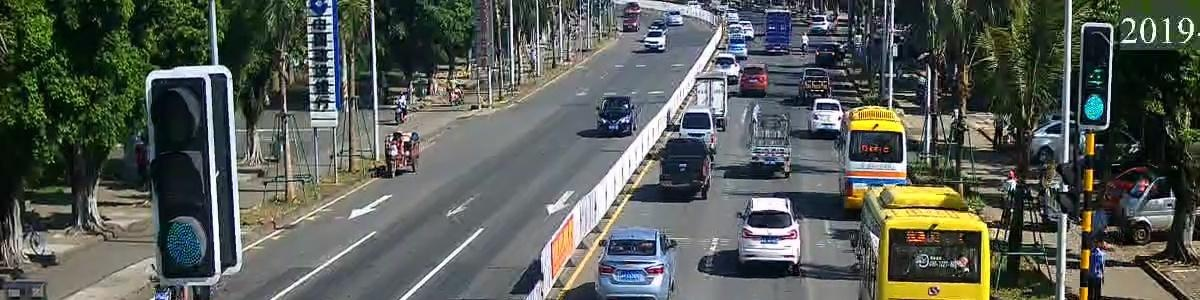green: (139, 199, 232, 275), (1072, 83, 1127, 131)
